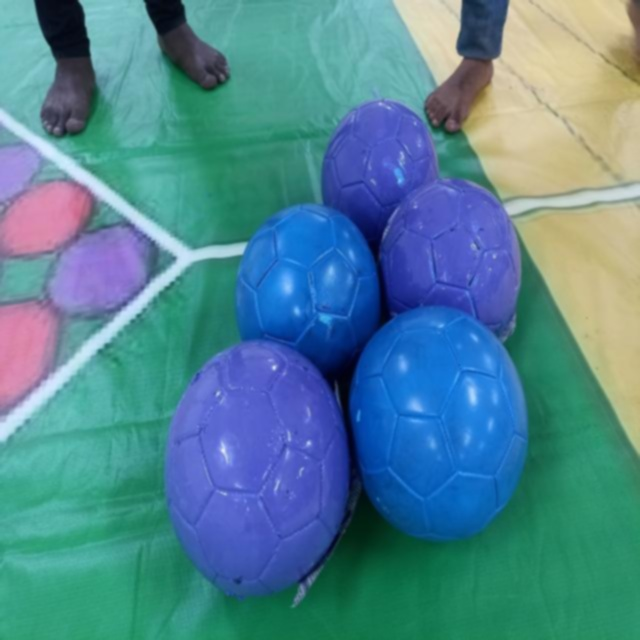blue_ball: (352, 306, 524, 542), (237, 201, 384, 355)
purple_ball: (165, 338, 348, 596), (323, 96, 440, 227)
